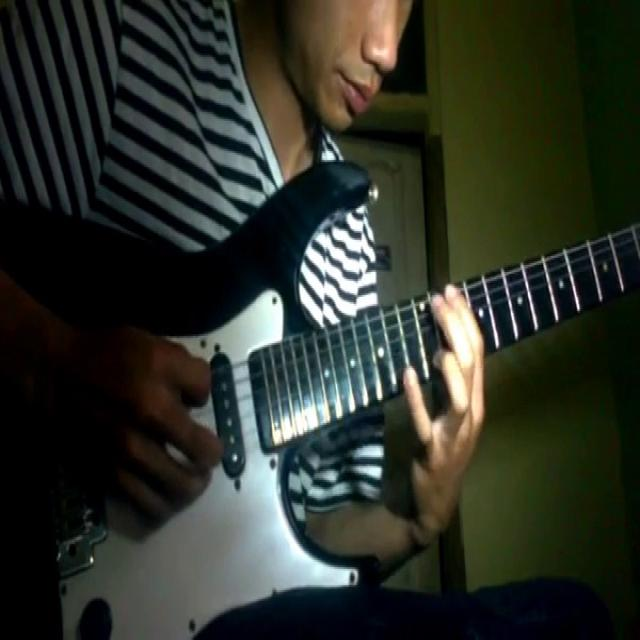Guitar: (0, 146, 630, 636)
